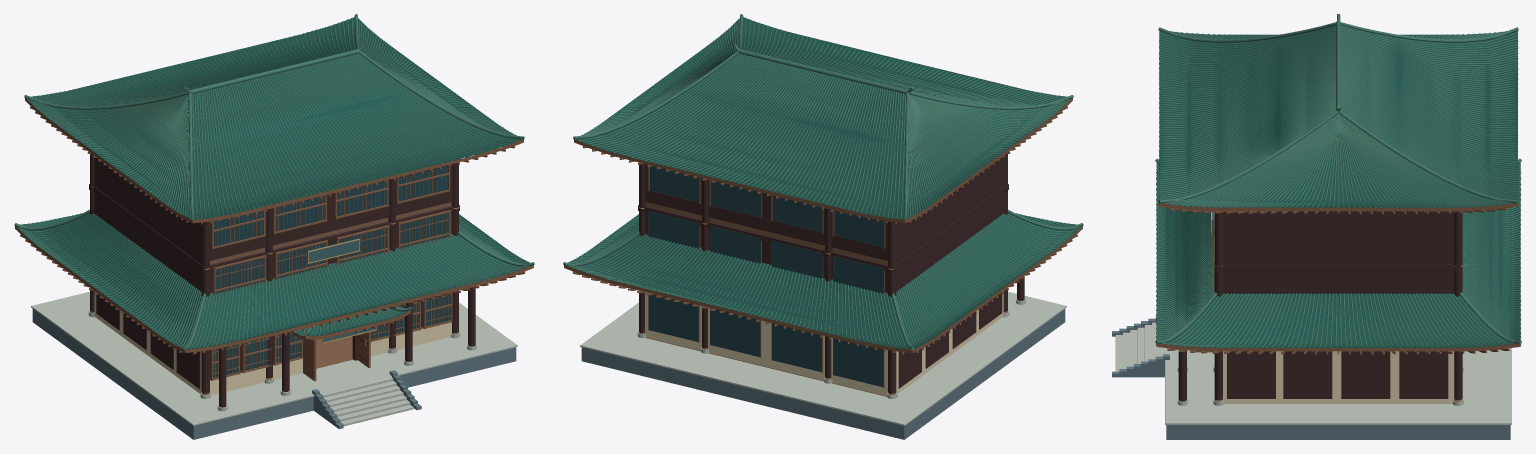
Rendered from scripture_pavilion.glb.
3 views of the same model, side by side, from view 1: azimuth 30°, elevation 25°; view 2: azimuth 150°, elevation 25°; view 3: azimuth 270°, elevation 25° (orthographic). The views are drawn at different scales.
Parts seen in each view (by area): view 1: scripture_pavilion_Jade, scripture_pavilion_TileLight, scripture_pavilion_Timber, scripture_pavilion_Coping, scripture_pavilion_Cedar, scripture_pavilion_Window, scripture_pavilion_Stone, scripture_pavilion_Plaster, scripture_pavilion_Floor, scripture_pavilion_Fabric; view 2: scripture_pavilion_Jade, scripture_pavilion_TileLight, scripture_pavilion_Window, scripture_pavilion_Timber, scripture_pavilion_Coping, scripture_pavilion_Stone, scripture_pavilion_Cedar, scripture_pavilion_Plaster, scripture_pavilion_Floor; view 3: scripture_pavilion_Jade, scripture_pavilion_TileLight, scripture_pavilion_Timber, scripture_pavilion_Coping, scripture_pavilion_Stone, scripture_pavilion_Cedar, scripture_pavilion_Plaster.
Part boxes in pixels (<box>): scripture_pavilion_Jade: <box>16,17,531,349</box>; scripture_pavilion_TileLight: <box>14,14,534,349</box>; scripture_pavilion_Timber: <box>89,154,475,407</box>; scripture_pavilion_Coping: <box>31,291,517,426</box>; scripture_pavilion_Cedar: <box>15,98,533,381</box>; scripture_pavilion_Window: <box>213,162,450,378</box>; scripture_pavilion_Stone: <box>32,309,516,439</box>; scripture_pavilion_Plaster: <box>94,291,451,395</box>; scripture_pavilion_Floor: <box>210,202,451,368</box>; scripture_pavilion_Fabric: <box>307,238,375,342</box>; scripture_pavilion_Jade: <box>566,17,1081,349</box>; scripture_pavilion_TileLight: <box>563,14,1083,349</box>; scripture_pavilion_Window: <box>648,166,883,386</box>; scripture_pavilion_Timber: <box>638,154,1024,394</box>; scripture_pavilion_Coping: <box>580,291,1066,425</box>; scripture_pavilion_Stone: <box>581,309,1065,439</box>; scripture_pavilion_Cedar: <box>564,30,1082,387</box>; scripture_pavilion_Plaster: <box>645,291,1003,395</box>; scripture_pavilion_Floor: <box>645,202,887,396</box>; scripture_pavilion_Jade: <box>1156,26,1520,347</box>; scripture_pavilion_TileLight: <box>1155,14,1521,347</box>; scripture_pavilion_Timber: <box>1178,211,1462,401</box>; scripture_pavilion_Coping: <box>1115,322,1511,424</box>; scripture_pavilion_Stone: <box>1112,316,1510,439</box>; scripture_pavilion_Cedar: <box>1156,40,1521,354</box>; scripture_pavilion_Plaster: <box>1223,351,1454,403</box>.
Size of the model in its own units: 23.94 by 18.02 by 22.62.
